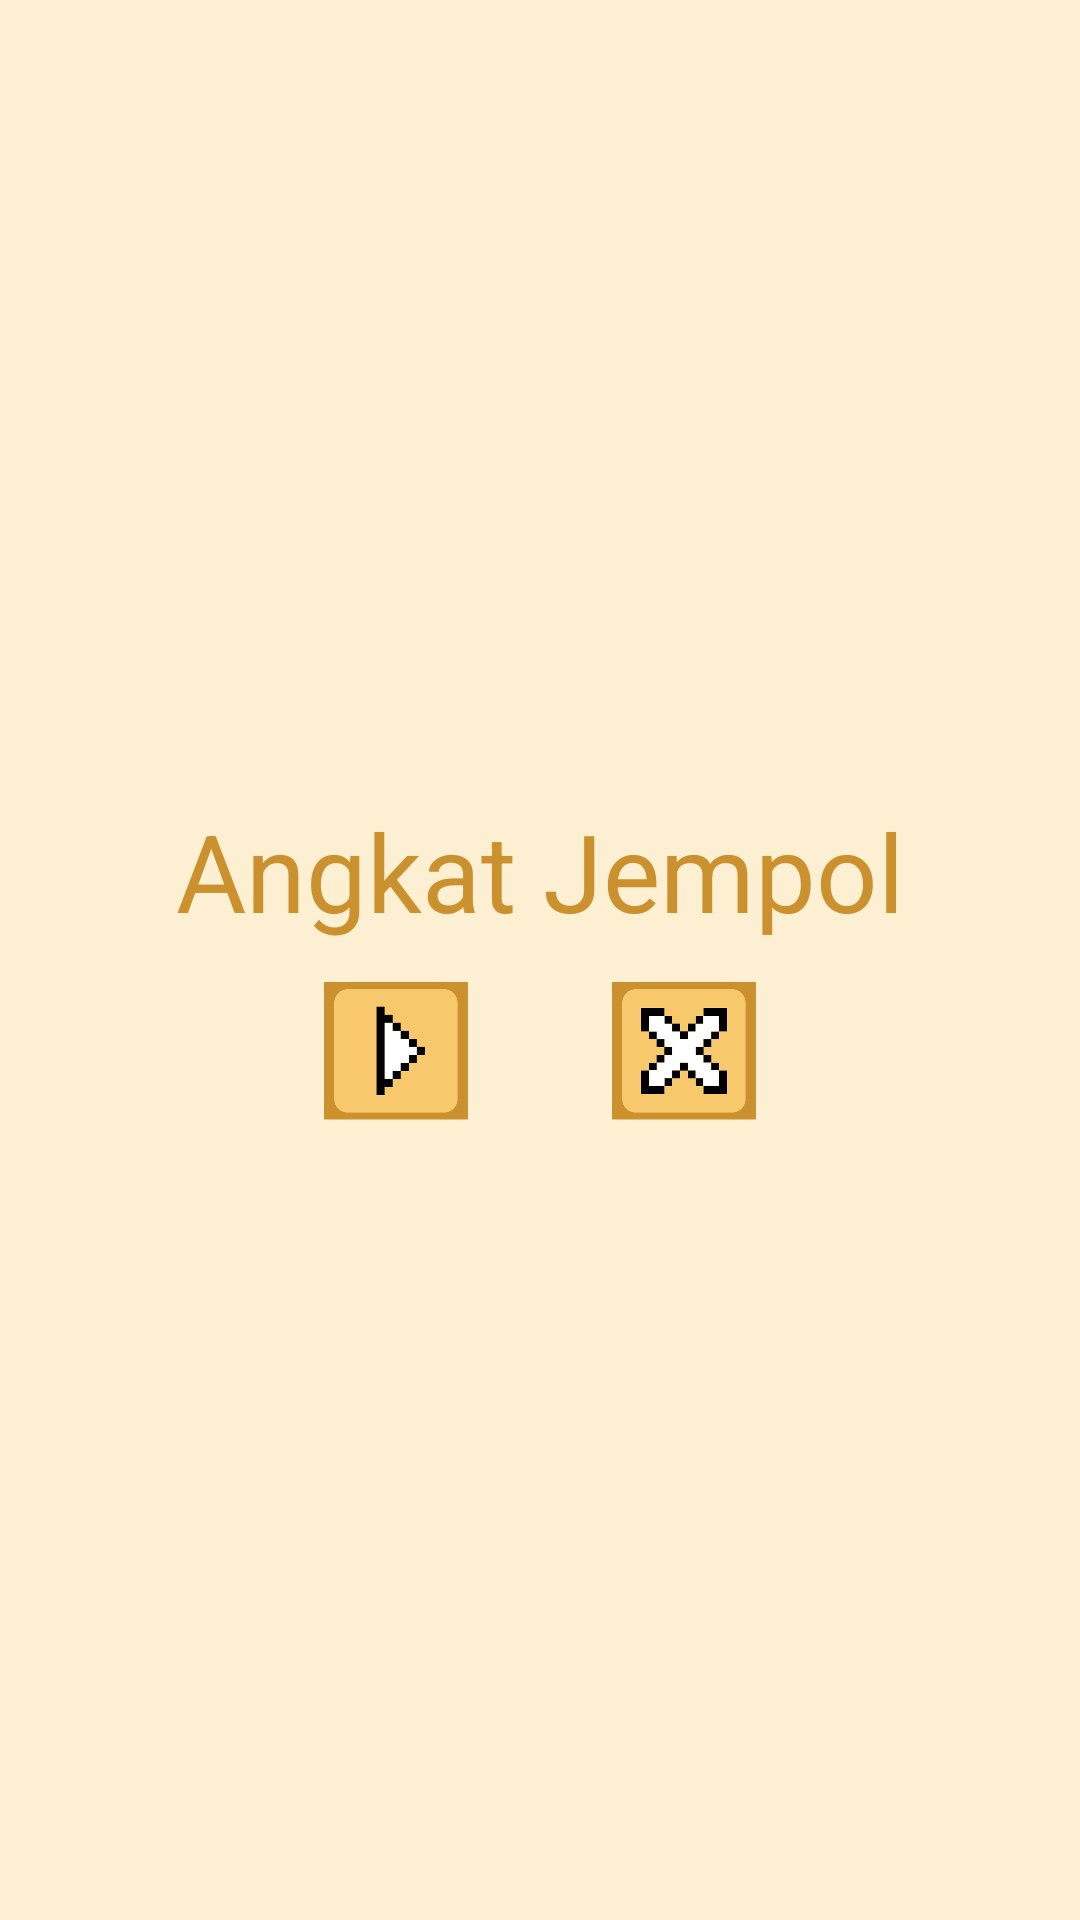

Icons on this 1080w x 1920h Android screen, each with its box as rect(x1, y1, x2, y2):
cancel: rect(612, 982, 756, 1120)
play: rect(324, 982, 468, 1120)
